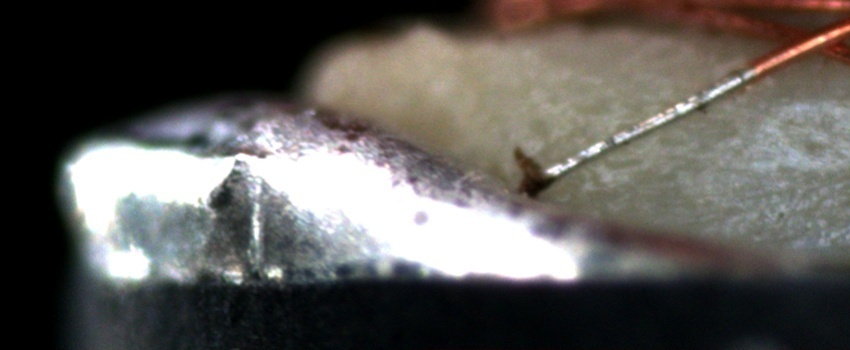CL: (769, 18, 848, 68)
DL: (673, 77, 849, 132)
TS: (541, 67, 758, 178)
